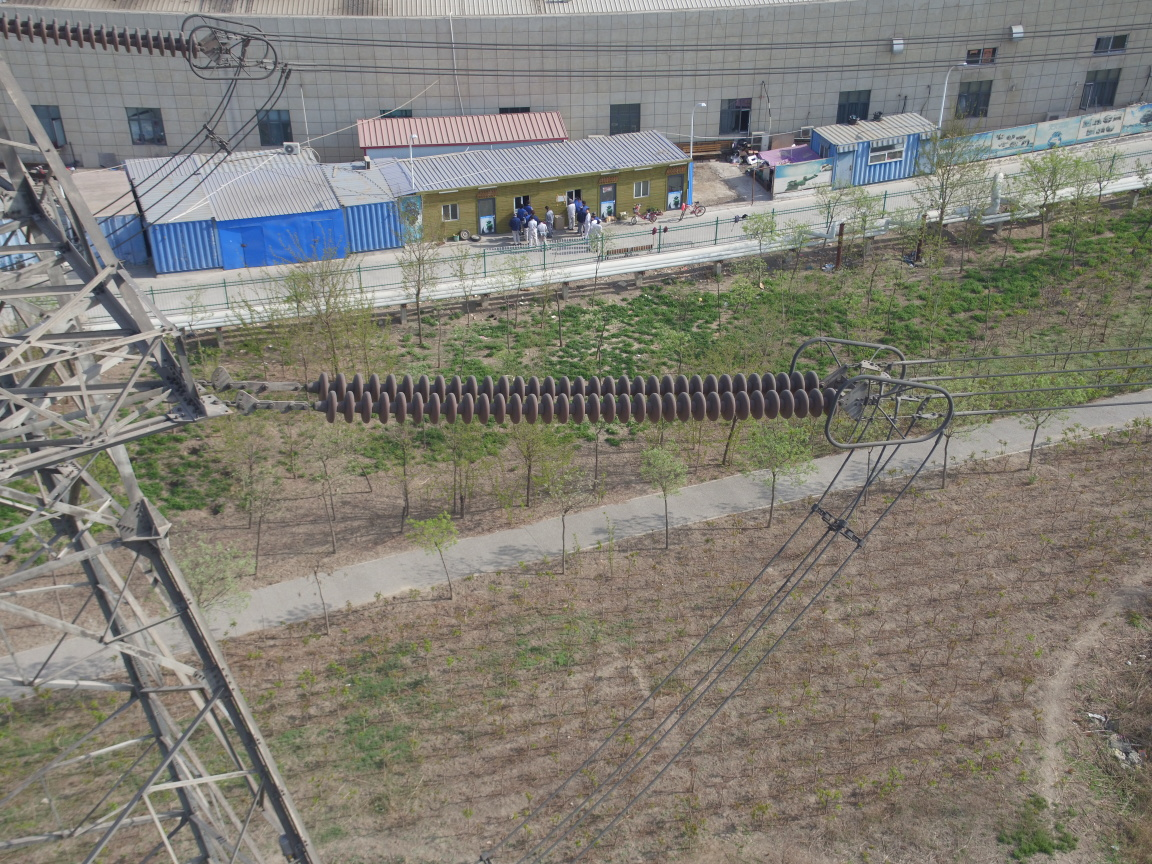insulator: (281, 368, 846, 428)
